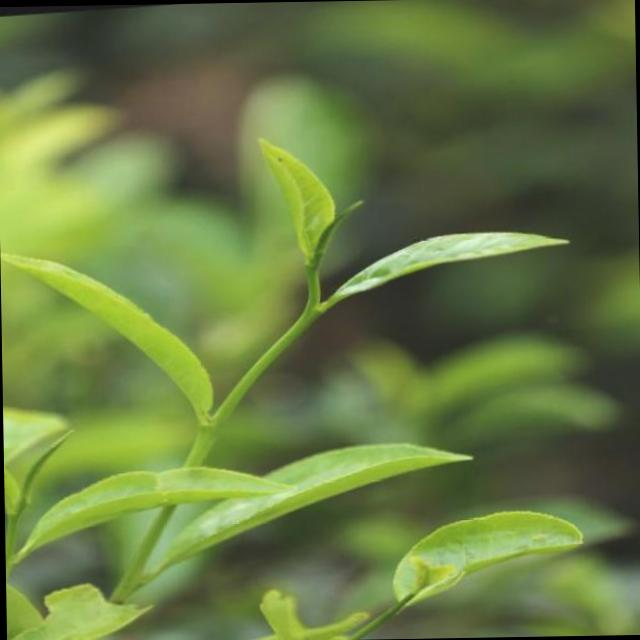Stem: (260, 303, 320, 361), (4, 521, 16, 560)
